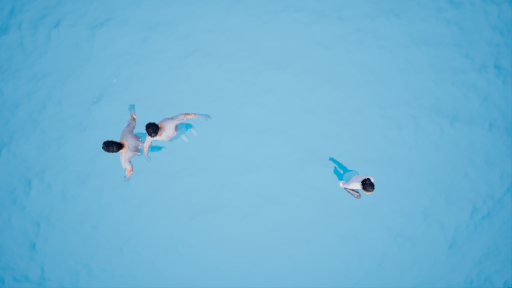person: (138, 104, 218, 156), (100, 103, 155, 169), (318, 150, 386, 202)
